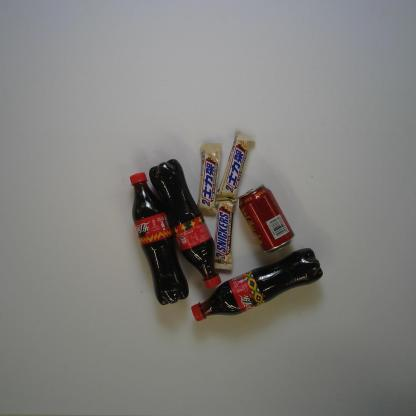Chocolate: (212, 129, 255, 210), (195, 141, 224, 218), (209, 194, 237, 273)
Drink: (146, 158, 226, 289), (190, 247, 324, 323), (126, 169, 191, 306), (236, 184, 296, 254)
